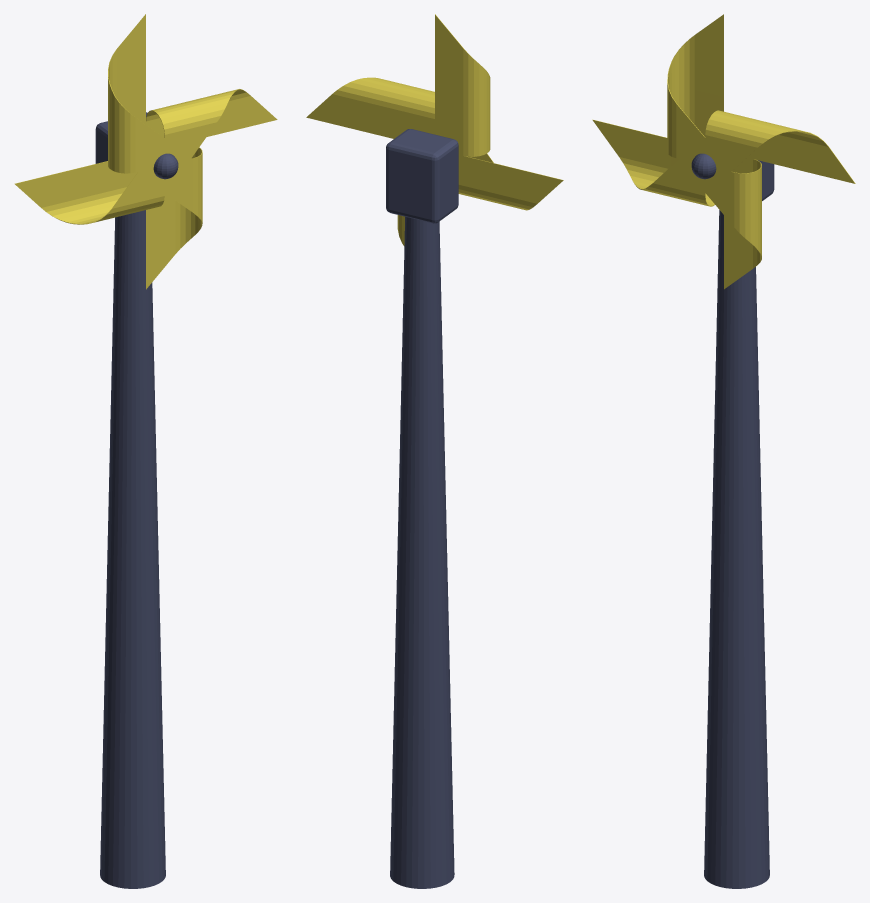
File: windmill.obj
3 renders of one model, left to right at view 1: azimuth 30°, elevation 25°; view 2: azimuth 150°, elevation 25°; view 3: azimuth 330°, elevation 25°, orthographic. The views are drawn at different scales.
Parts seen in each view (by area): view 1: windmill.pole, windmill; view 2: windmill.pole, windmill; view 3: windmill.pole, windmill.
Boxes of the visible parts, x1,y1,x2,y2 form: windmill.pole: (95,112,178,888); windmill: (14,14,277,289); windmill.pole: (386,129,458,888); windmill: (306,14,563,245); windmill.pole: (691,153,774,888); windmill: (592,14,855,289).
Bounding box in the file's own units: 5.12 × 16.19 × 1.87.
